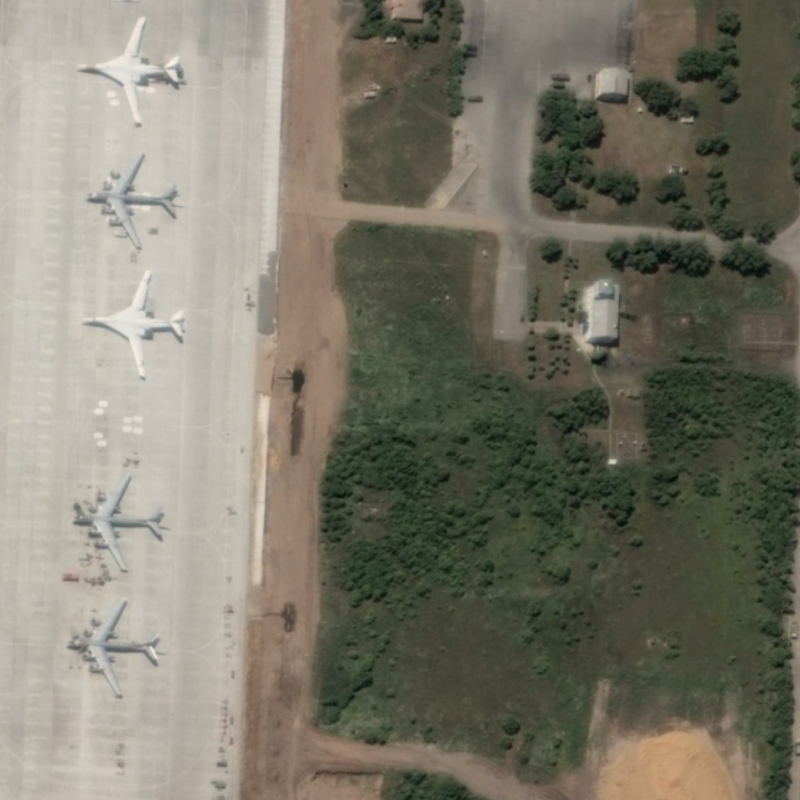A17: (60, 598, 167, 701), (68, 472, 170, 577), (81, 147, 182, 251)
A6: (72, 11, 189, 129), (75, 266, 189, 384)
